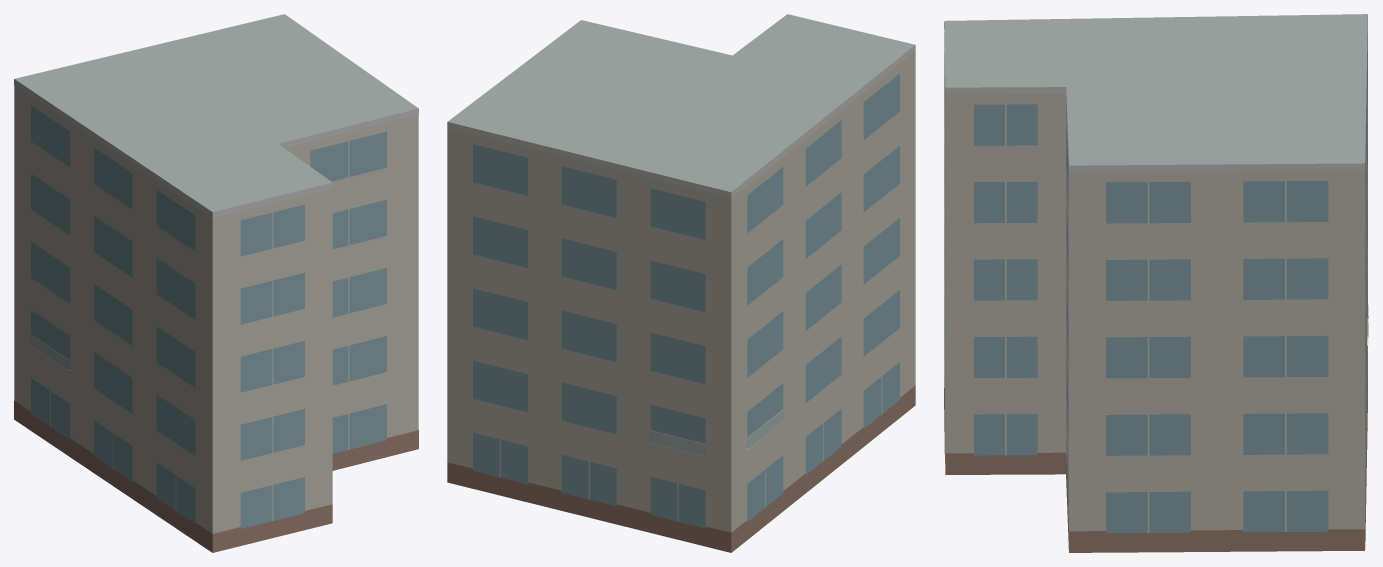
Rendered from survey-upis-32598792.glb.
3 views of the same model, side by side, from view 1: azimuth 30°, elevation 25°; view 2: azimuth 150°, elevation 25°; view 3: azimuth 270°, elevation 25° (orthographic). The views are drawn at different scales.
Parts seen in each view (by area): view 1: survey-upis-32598792.tmp; view 2: survey-upis-32598792.tmp; view 3: survey-upis-32598792.tmp.
Boxes of the visible parts, box(x1,y1,x2,y2) form: survey-upis-32598792.tmp: box(14, 14, 418, 552); survey-upis-32598792.tmp: box(447, 14, 915, 552); survey-upis-32598792.tmp: box(944, 14, 1368, 552).
Bounding box in the file's own units: 11.59 × 13.8 × 13.72.
